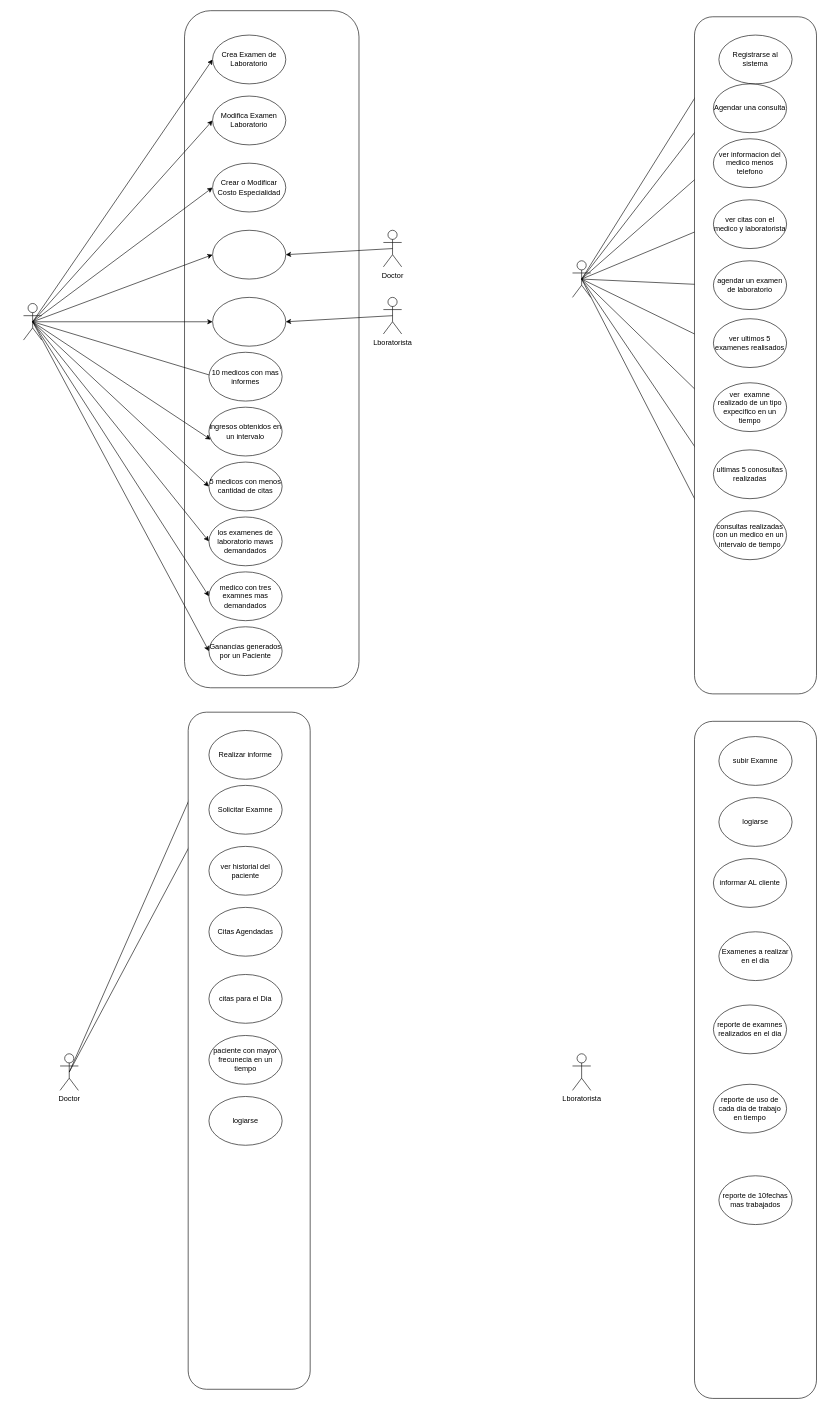
Image size: 827x1409. Some labels were removed from this diagram. Each missing label, with the centre of its shape:
administrador: point (32, 321)
Agrega Laboratoristas al sistema: point (249, 321)
Agrega medicos al sistema: point (249, 254)
Cliente: point (581, 278)
